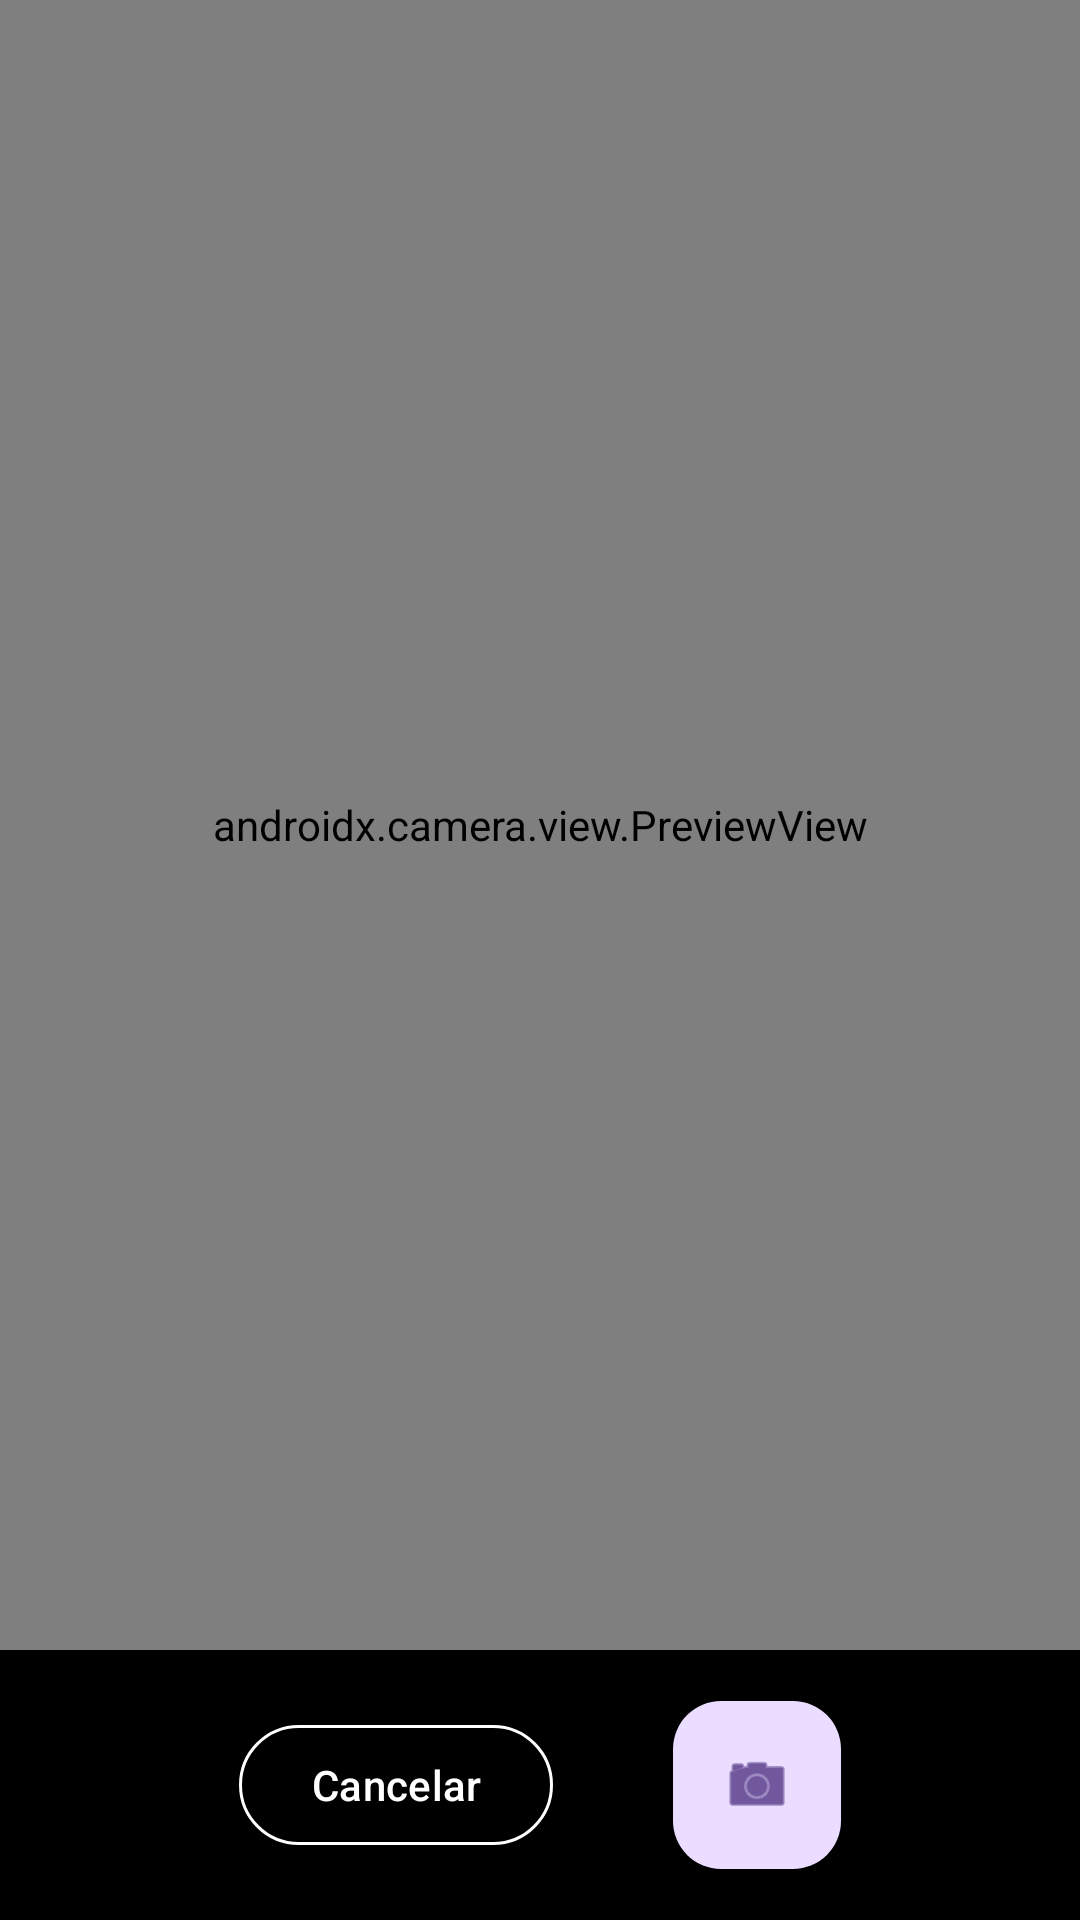

Where to tap for icons on this 1080w x 1920h app screen, as [x,y]:
Tirar foto: [757,1785]
